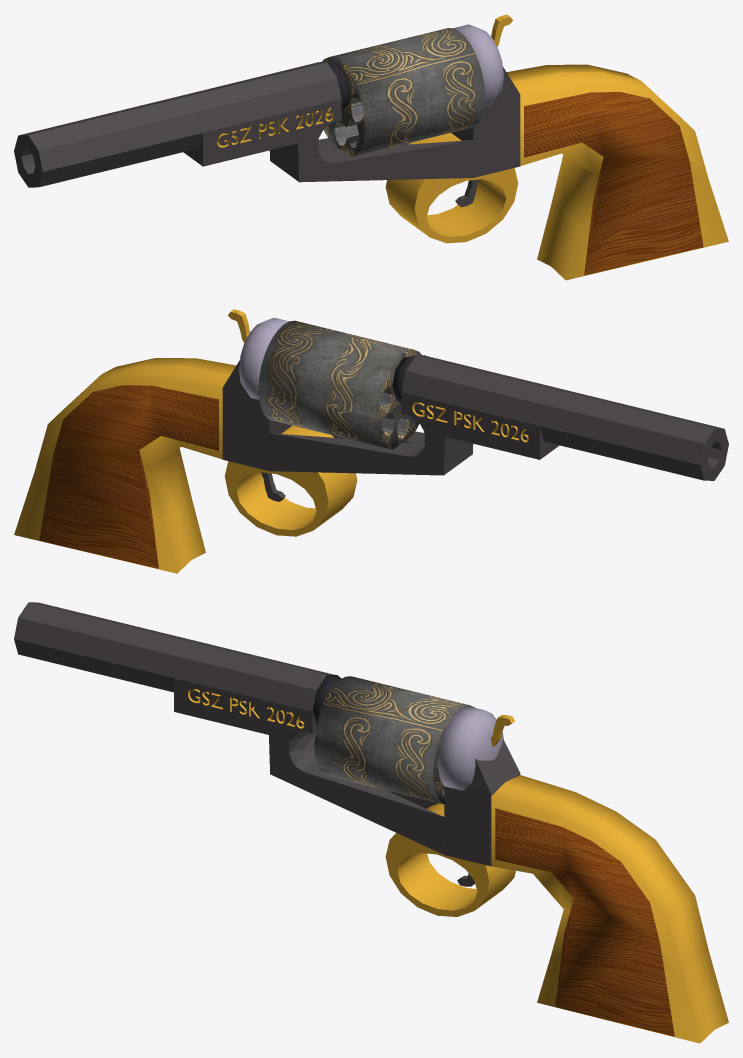
The model's file is revolver.glb.
3 views of the same model, one above another, from view 1: azimuth 30°, elevation 25°; view 2: azimuth 150°, elevation 25°; view 3: azimuth 330°, elevation 25° (orthographic).
Visible parts, largest first — view 1: Plane.004, lufa_gora, magazynek, Plane.001, lufa_dol, Cylinder.002, Cube, Cylinder.001, Cylinder; view 2: Plane.004, lufa_gora, magazynek, Plane.001, lufa_dol, Cylinder.002, Cube, Cylinder.001, Cylinder; view 3: Plane.004, Plane.001, lufa_gora, magazynek, lufa_dol, Cylinder.002, Cube, Cylinder.001.
Boxes of the visible parts, box(x1,y1,x2,y2) form: Plane.004: box(524, 92, 703, 275); lufa_gora: box(14, 62, 341, 187); magazynek: box(322, 28, 485, 156); Plane.001: box(506, 64, 728, 280); lufa_dol: box(183, 99, 473, 182); Cylinder.002: box(385, 133, 518, 243); Cube: box(451, 67, 520, 177); Cylinder.001: box(453, 24, 503, 106); Cylinder: box(317, 62, 350, 110); Plane.004: box(39, 385, 218, 568); lufa_gora: box(401, 355, 728, 480); magazynek: box(258, 320, 421, 449); Plane.001: box(14, 358, 236, 573); lufa_dol: box(269, 392, 559, 475); Cylinder.002: box(224, 425, 357, 536); Cube: box(222, 360, 292, 470); Cylinder.001: box(239, 317, 288, 399); Cylinder: box(392, 355, 425, 403); Plane.004: box(495, 808, 674, 1036); Plane.001: box(491, 775, 728, 1043); lufa_gora: box(14, 602, 334, 726); magazynek: box(314, 676, 474, 804); lufa_dol: box(174, 678, 444, 854); Cylinder.002: box(385, 803, 515, 916); Cube: box(444, 738, 520, 866); Cylinder.001: box(437, 706, 503, 790).
Bounding box in the file's own units: 27.41 × 10.1 × 3.55.
Materials: 13 (2 with a texture image).
